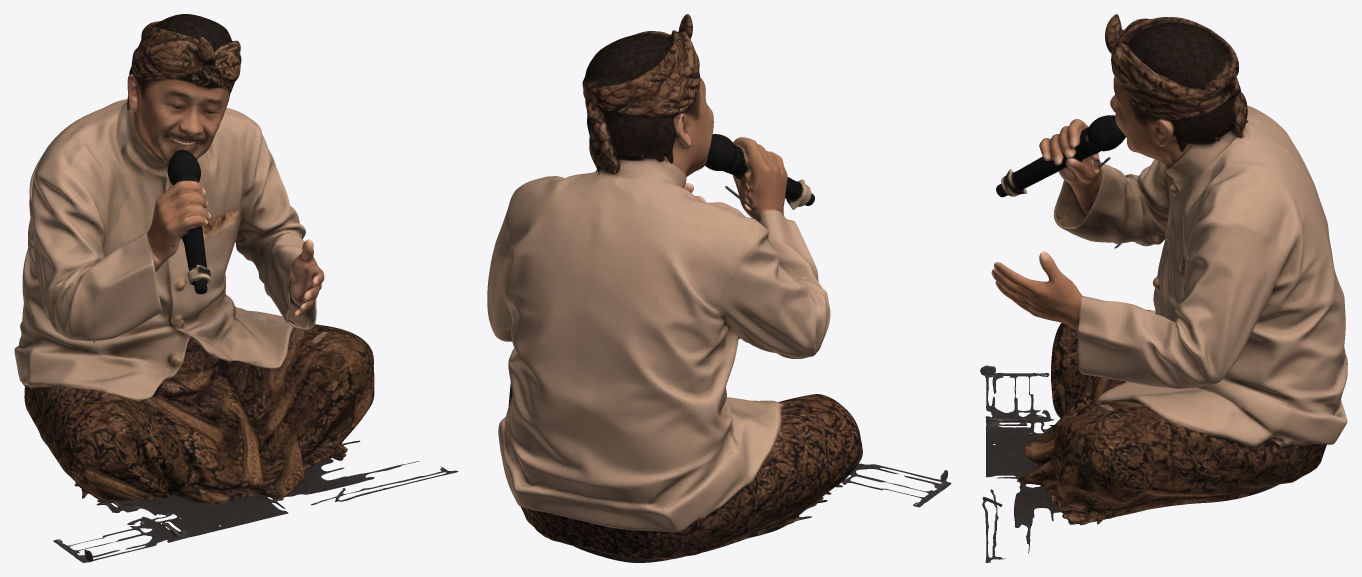
File: alok.glb
The picture shows the model from 3 angles, left to right: view 1: azimuth 30°, elevation 25°; view 2: azimuth 150°, elevation 25°; view 3: azimuth 270°, elevation 25°; orthographic projection. The views are drawn at different scales.
Visible parts, largest first — view 1: mesh_node; view 2: mesh_node; view 3: mesh_node.
Part boxes in pixels (x1,y1,x2,y2): mesh_node: [14, 14, 458, 562]; mesh_node: [487, 14, 951, 562]; mesh_node: [980, 14, 1347, 562].
Bounding box in the file's own units: 1.71 × 1.9 × 1.4.
Materials: 1 (1 with a texture image).
